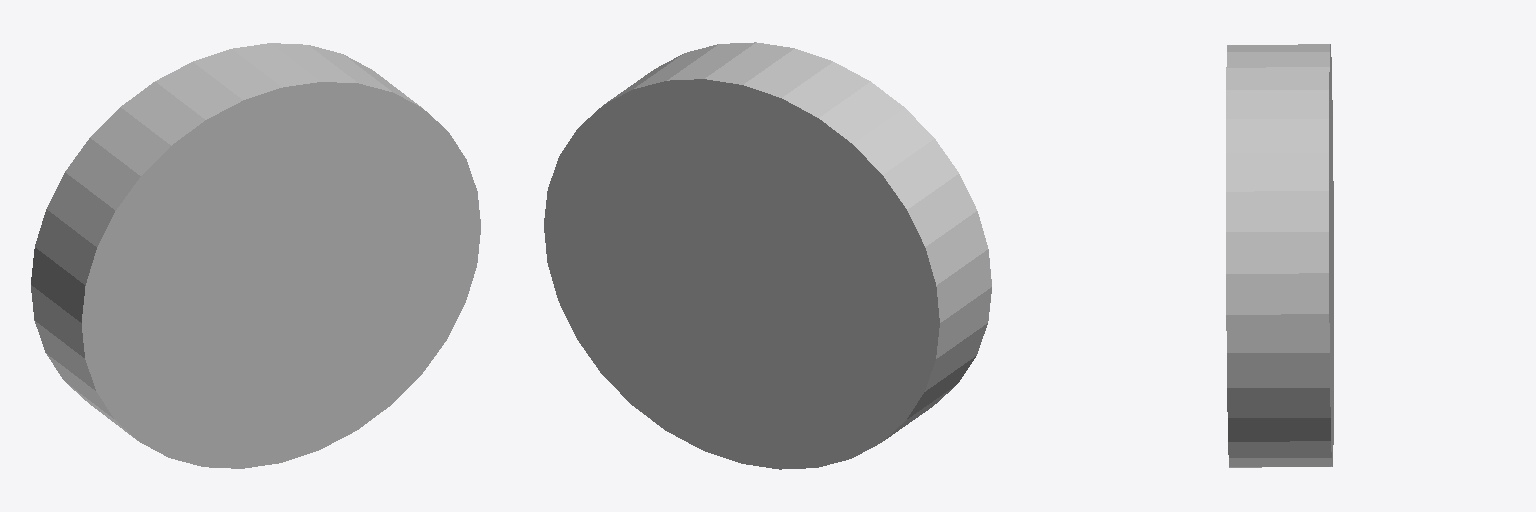
File: puck12.obj
3 renders of one model, left to right at view 1: azimuth 30°, elevation 25°; view 2: azimuth 150°, elevation 25°; view 3: azimuth 270°, elevation 25°, orthographic.
Visible parts, largest first — view 1: Cylinder; view 2: Cylinder; view 3: Cylinder.
Boxes of the visible parts, x1=… form: Cylinder: x1=31, y1=43, x2=480, y2=468; Cylinder: x1=544, y1=42, x2=991, y2=469; Cylinder: x1=1226, y1=44, x2=1333, y2=467.
Bounding box in the file's own units: 0.821 × 0.7438 × 0.1932.